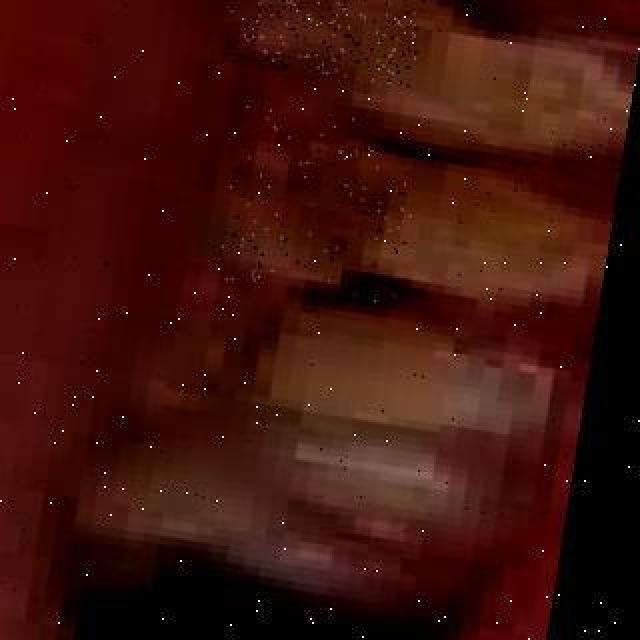calculus: (460, 328, 594, 474)
cavities: (216, 100, 426, 308), (395, 160, 621, 300), (463, 0, 625, 168), (224, 0, 436, 86)
